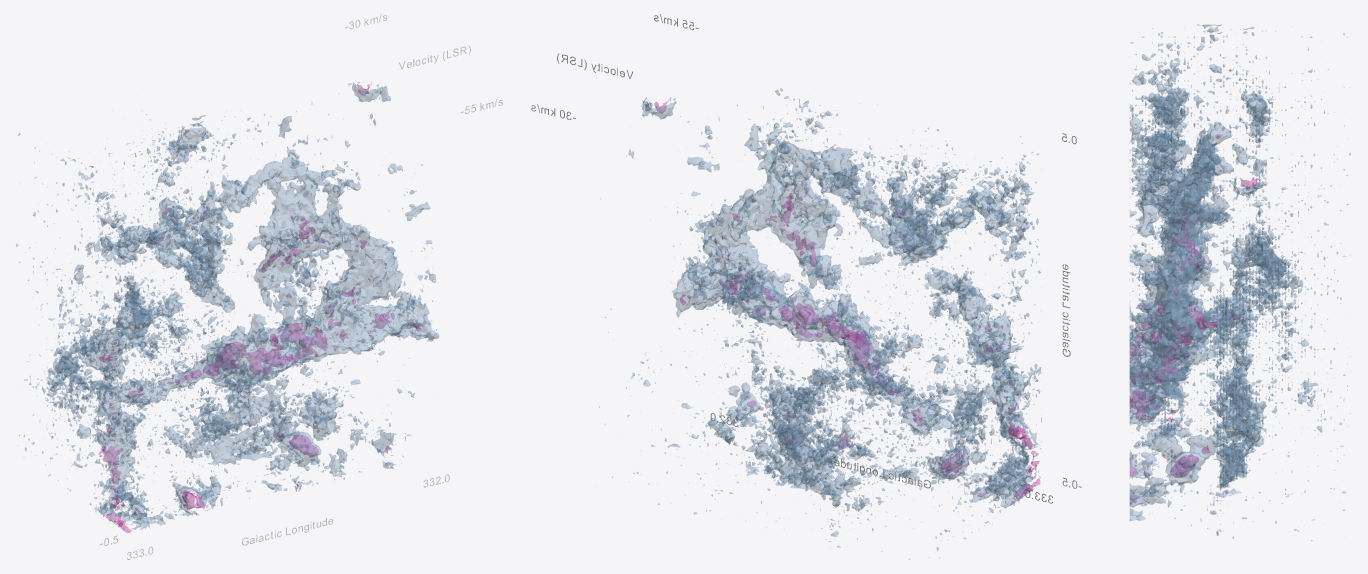
File: molecular.glb
3 renders of one model, left to right at view 1: azimuth 30°, elevation 25°; view 2: azimuth 150°, elevation 25°; view 3: azimuth 270°, elevation 25°, orthographic. The views are drawn at different scales.
Visible parts, largest first — view 1: Object_22, Object_25, Object_23, Object_24, Object_26; view 2: Object_23, Object_22, Object_25, Object_24, Object_26; view 3: Object_23, Object_22, Object_25, Object_24, Object_26.
Boxes of the visible parts, box(x1,y1,x2,y2) form: Object_22: box(18, 82, 422, 532); Object_25: box(28, 234, 438, 422); Object_23: box(16, 174, 432, 484); Object_24: box(18, 322, 436, 532); Object_26: box(19, 220, 432, 334); Object_23: box(599, 157, 1041, 487); Object_22: box(626, 88, 1040, 499); Object_25: box(605, 218, 1041, 428); Object_24: box(596, 285, 1041, 559); Object_26: box(673, 198, 1040, 369); Object_23: box(1129, 108, 1350, 461); Object_22: box(1129, 24, 1347, 498); Object_25: box(1129, 183, 1347, 420); Object_24: box(1129, 248, 1350, 540); Object_26: box(1130, 157, 1344, 343).
Bounding box in the file's own units: 1.66 × 1.42 × 0.7684.
